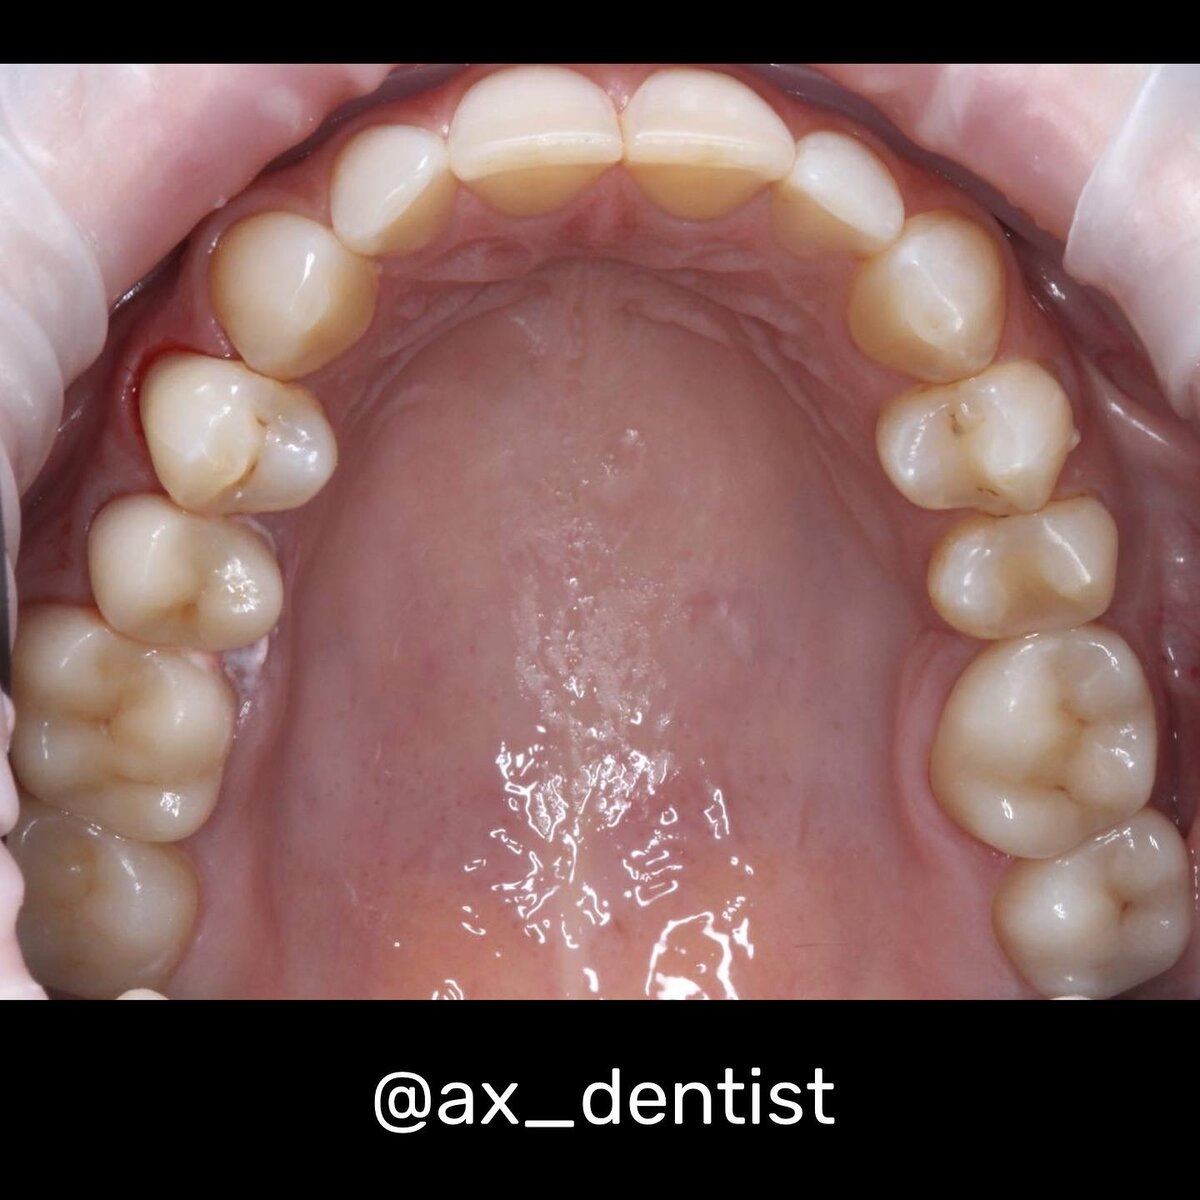UL1BC_decay: (881, 365, 1073, 513)
UL1M_decay: (949, 631, 1154, 848)
UL2BC_healthy: (926, 515, 1114, 634)
UL2M_decay: (1004, 838, 1187, 992)
ULCI_healthy: (626, 71, 791, 212)
ULC_healthy: (854, 218, 1002, 380)
ULLI_healthy: (785, 134, 905, 256)
UR1BC_decay: (145, 357, 337, 510)
UR1M_healthy: (29, 616, 226, 842)
UR2BC_healthy: (91, 503, 284, 648)
UR2M_healthy: (32, 824, 196, 980)
URCI_healthy: (452, 71, 622, 212)
URC_healthy: (213, 212, 375, 377)
URLI_healthy: (331, 125, 449, 251)
